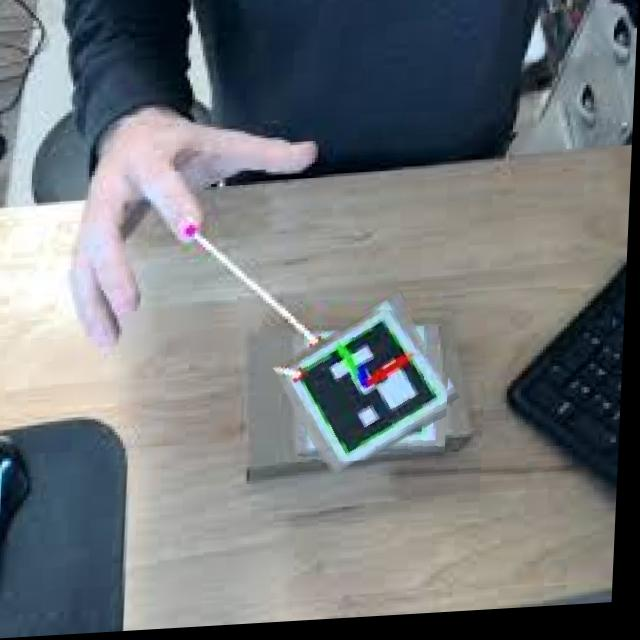aruco: (285, 305, 456, 469)
